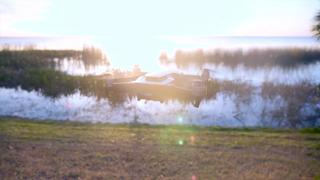UAV: (102, 65, 220, 108)
